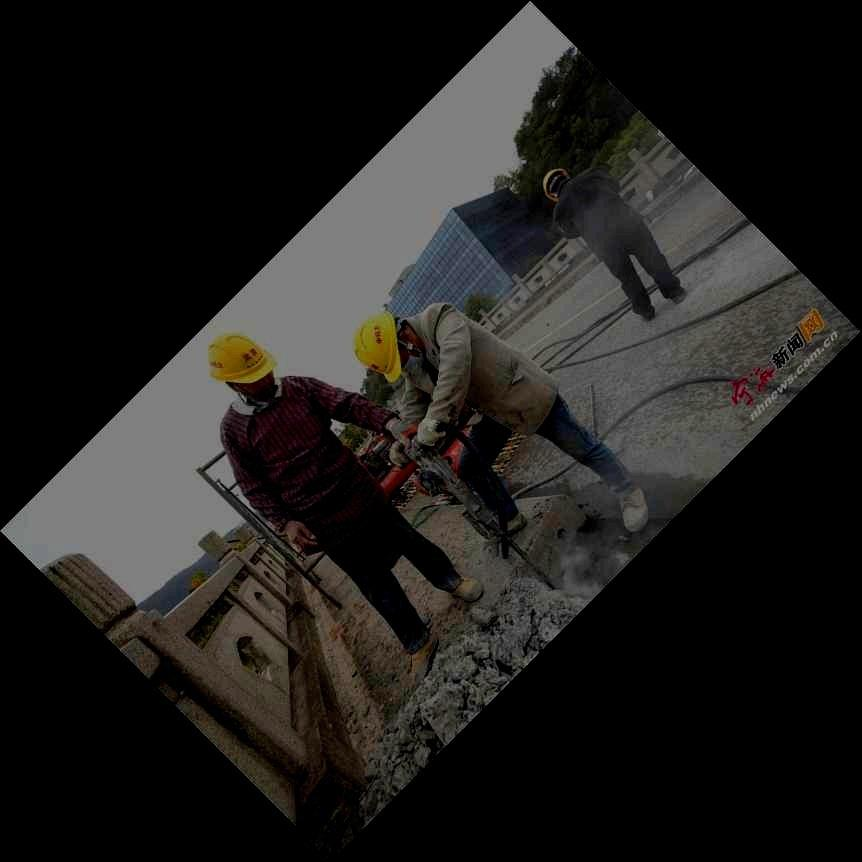helmet: (351, 310, 426, 383), (206, 331, 278, 401), (543, 169, 571, 201)
